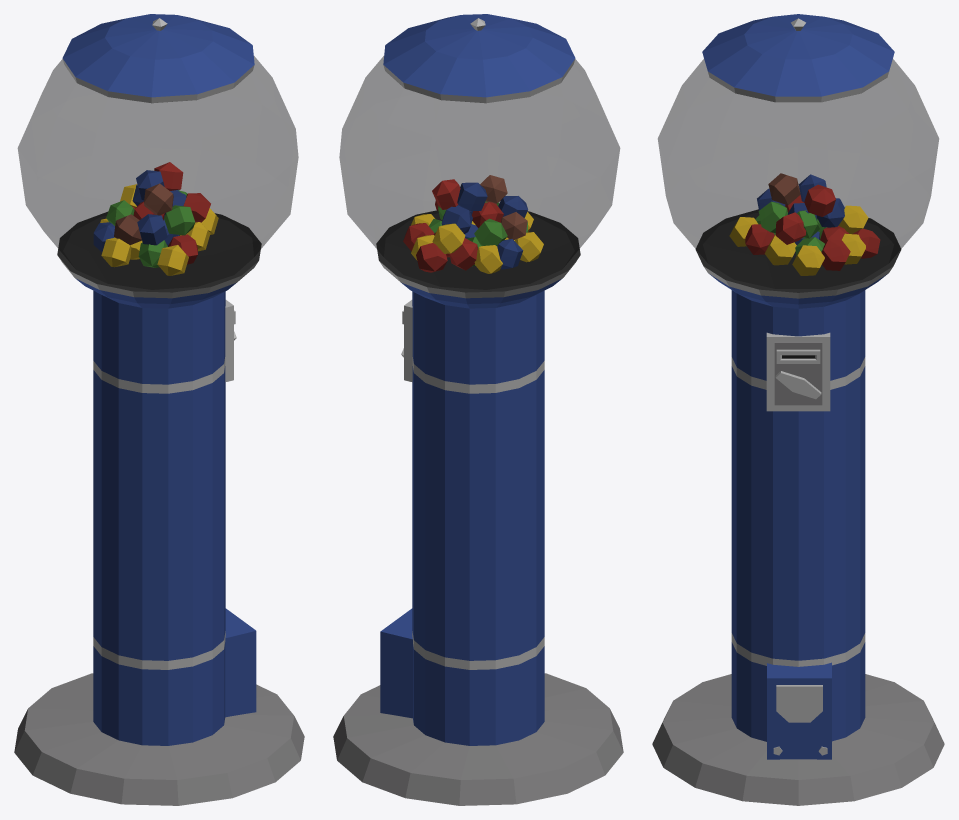
File: SM_candy_machine_2.gltf
3 renders of one model, left to right at view 1: azimuth 30°, elevation 25°; view 2: azimuth 150°, elevation 25°; view 3: azimuth 270°, elevation 25°, orthographic.
Parts seen in each view (by area): view 1: SM_candy_machine_2; view 2: SM_candy_machine_2; view 3: SM_candy_machine_2.
Part boxes in pixels (bbox=[...]): SM_candy_machine_2: bbox=[14, 14, 304, 805]; SM_candy_machine_2: bbox=[333, 14, 623, 805]; SM_candy_machine_2: bbox=[652, 14, 944, 805].
Bounding box in the file's own units: 0.5222 × 1.43 × 0.5222.
2 materials, 1 textured.
